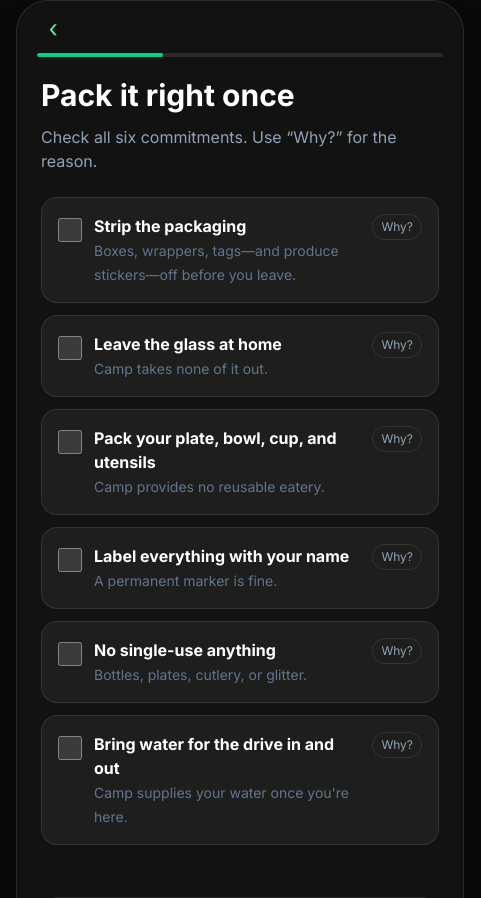
it: LntModuleRunner › toggles a packing commitment when its visible label is clicked
Click the text "Strip the packaging" at (170, 226), box left=94, top=216, right=246, bottom=236
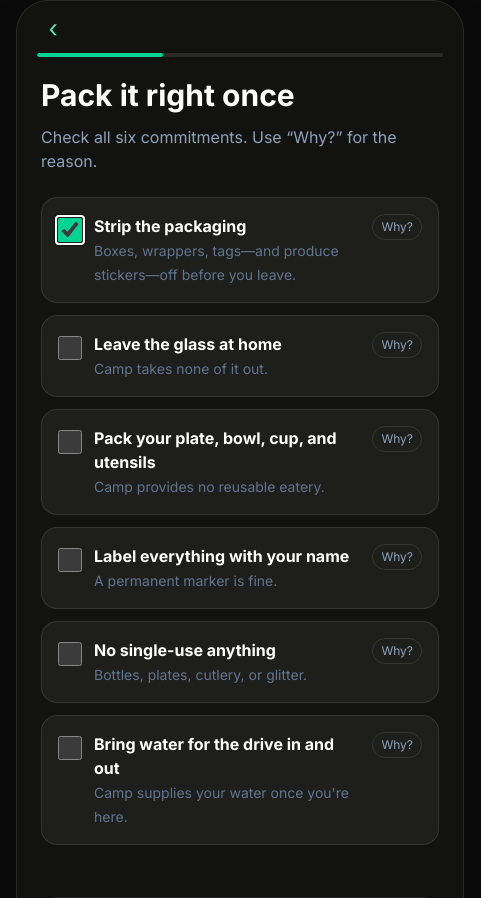
expect the checkbox labelled "Strip the packaging" is checked: met, box left=58, top=218, right=82, bottom=242
